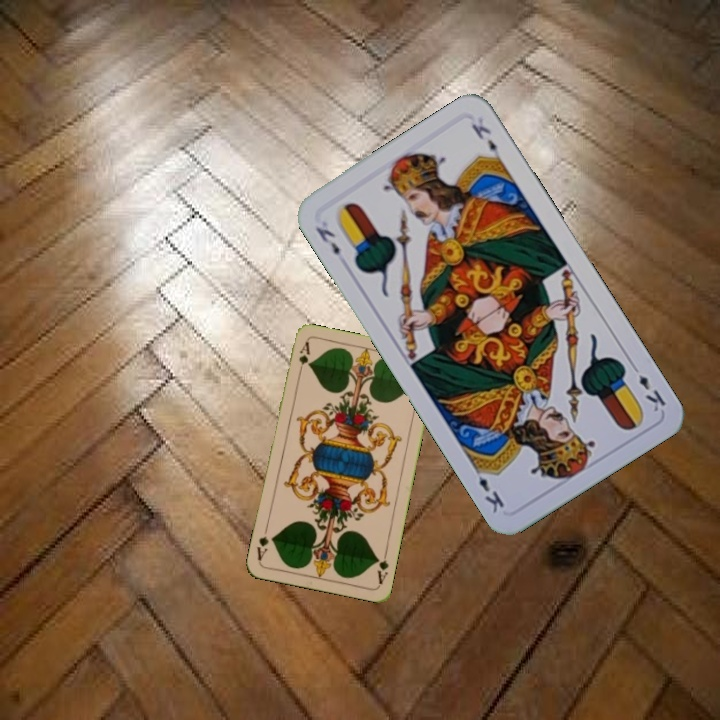EK: (627, 359, 669, 415), (311, 222, 343, 258)
GA: (372, 546, 391, 587), (294, 338, 312, 378)
